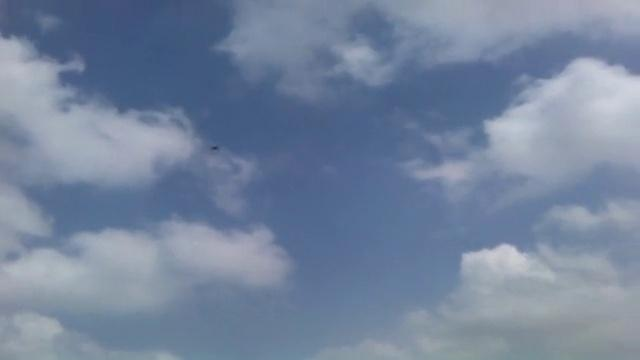drone: (207, 141, 222, 152)
